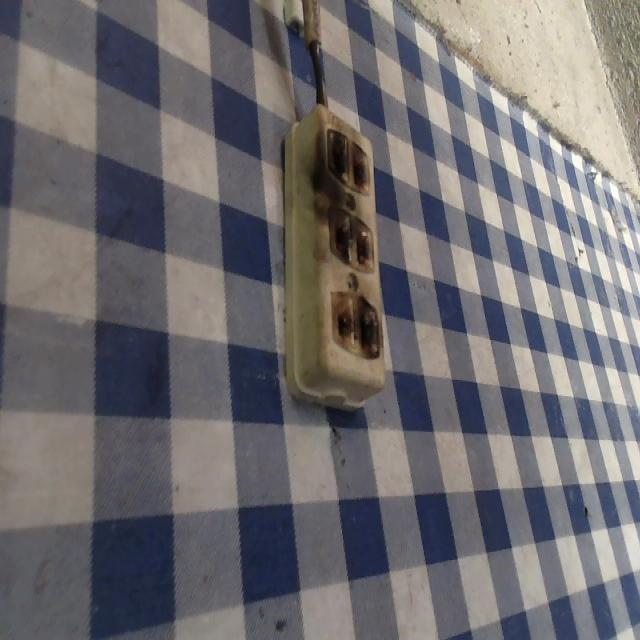-: (330, 288, 384, 360), (323, 123, 370, 197), (326, 203, 375, 273)
